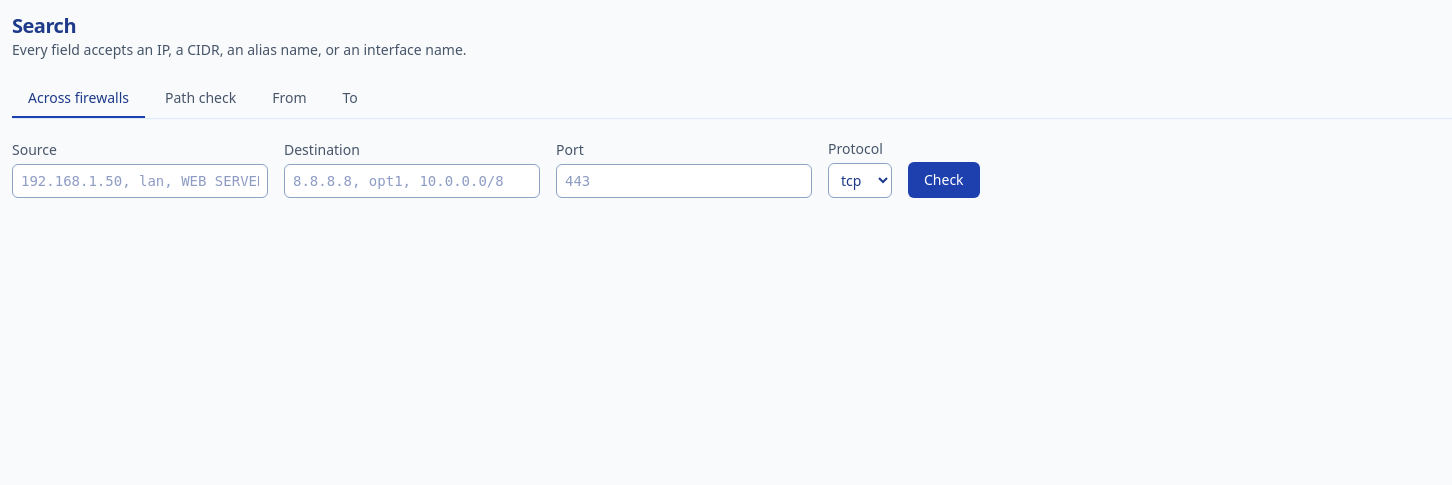
Test: SearchPage › opens on the cross-firewall walk and reports every hop
Type "192.168.1.50" into the field labelled "Source".
click(140, 181); type("192.168.1.50")  # box [12, 164, 268, 198]
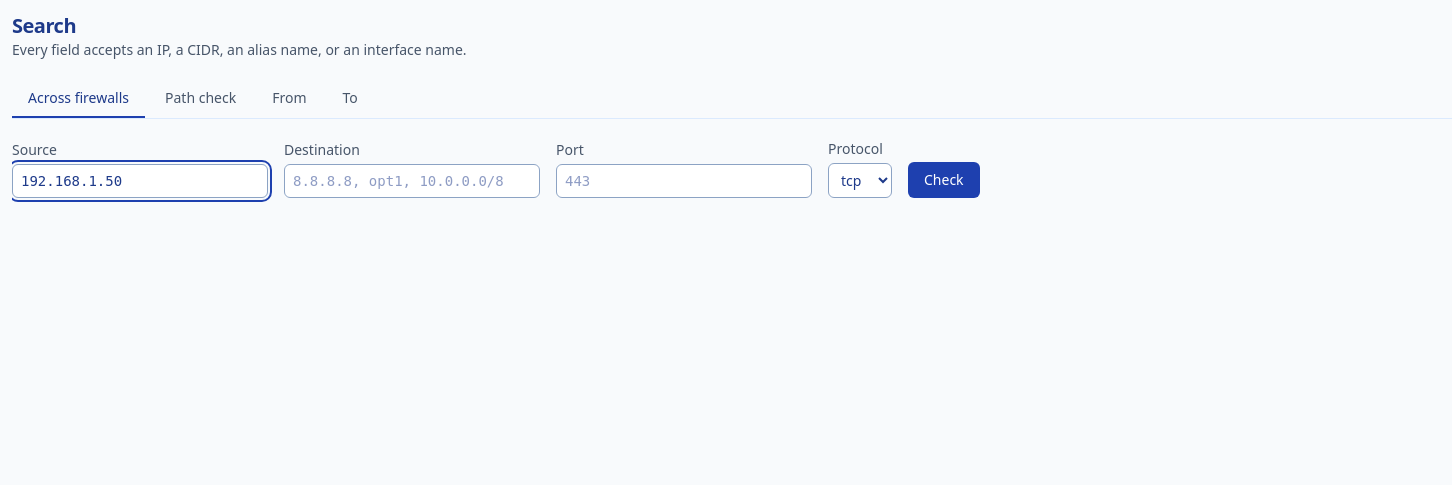
Type "10.20.5.10" into the field labelled "Destination".
click(412, 181); type("10.20.5.10")  # box [284, 164, 540, 198]
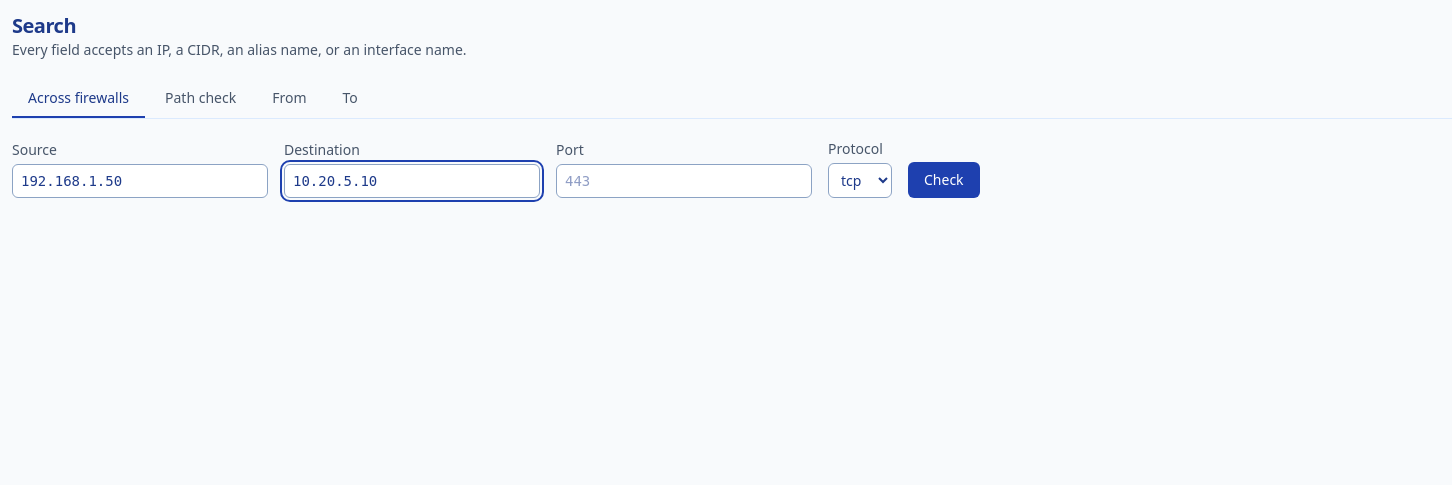
Click the button "Check".
click(944, 180)  # box [908, 162, 980, 198]
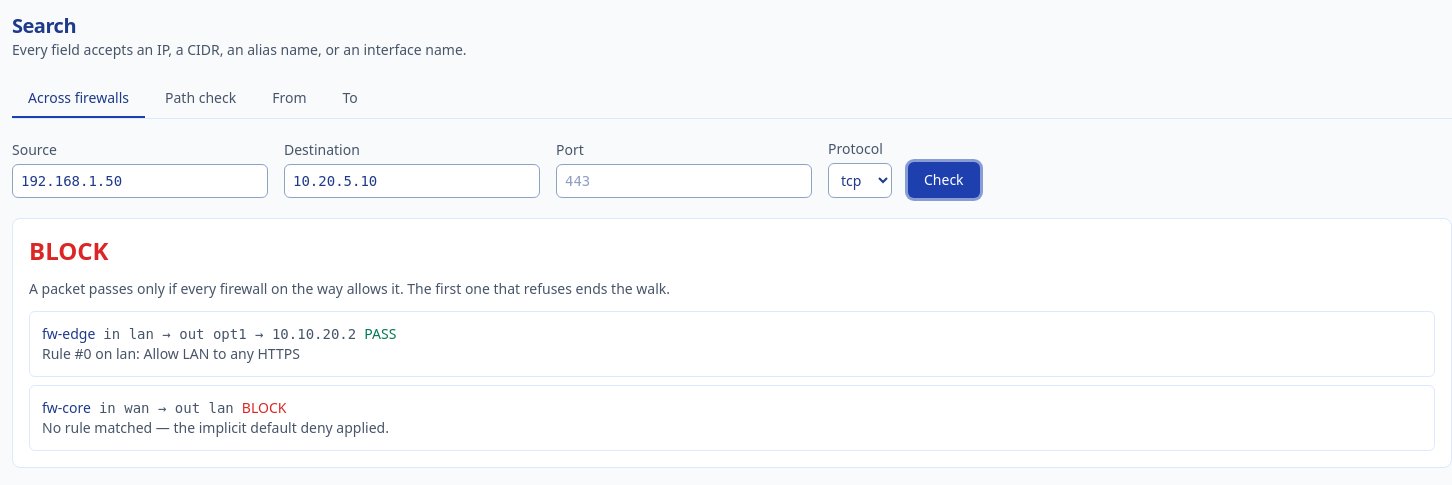
Expected: the text "fw-edge" is shown, [42, 324, 95, 344]
Expected: the text "fw-core" is shown, [42, 398, 91, 418]
